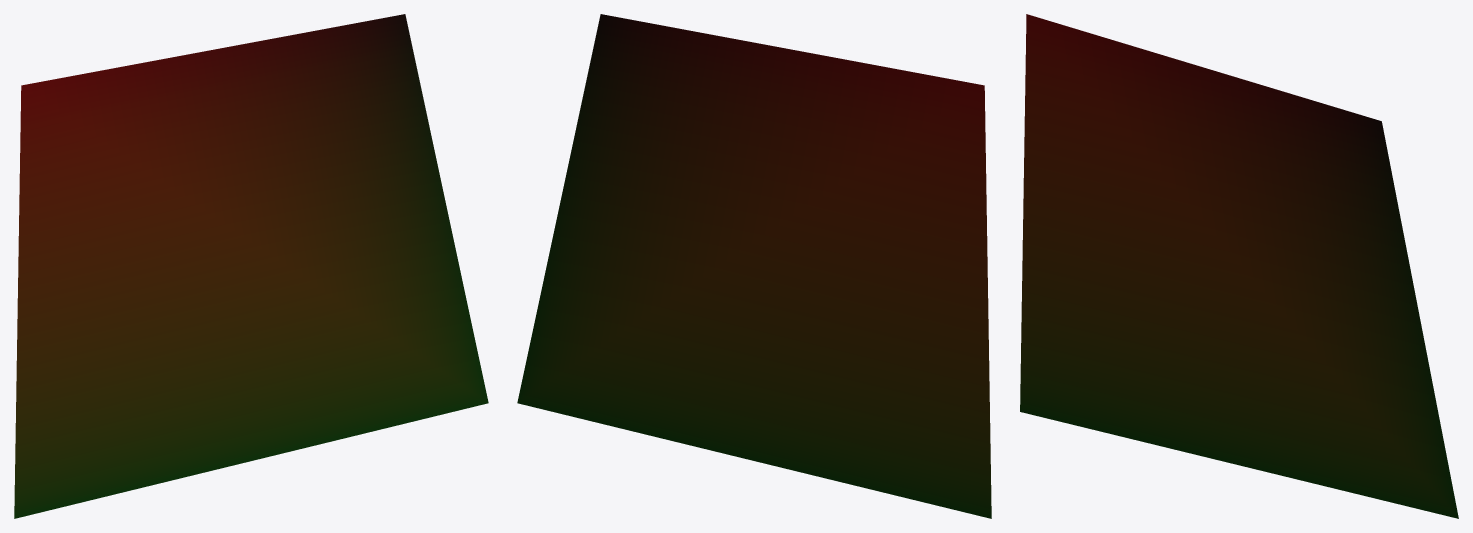
Rendered from Var2_LOD3.fbx.
3 views of the same model, side by side, from view 1: azimuth 30°, elevation 25°; view 2: azimuth 150°, elevation 25°; view 3: azimuth 330°, elevation 25° (orthographic). The views are drawn at different scales.
Parts seen in each view (by area): view 1: _73d2_Var2_LOD3; view 2: _73d2_Var2_LOD3; view 3: _73d2_Var2_LOD3.
Part boxes in pixels (<box>): _73d2_Var2_LOD3: <box>14,14,488,518</box>; _73d2_Var2_LOD3: <box>517,14,991,518</box>; _73d2_Var2_LOD3: <box>1020,14,1458,518</box>.
Size of the model in its own units: 32.69 by 28.43 by 1.04e-05.
